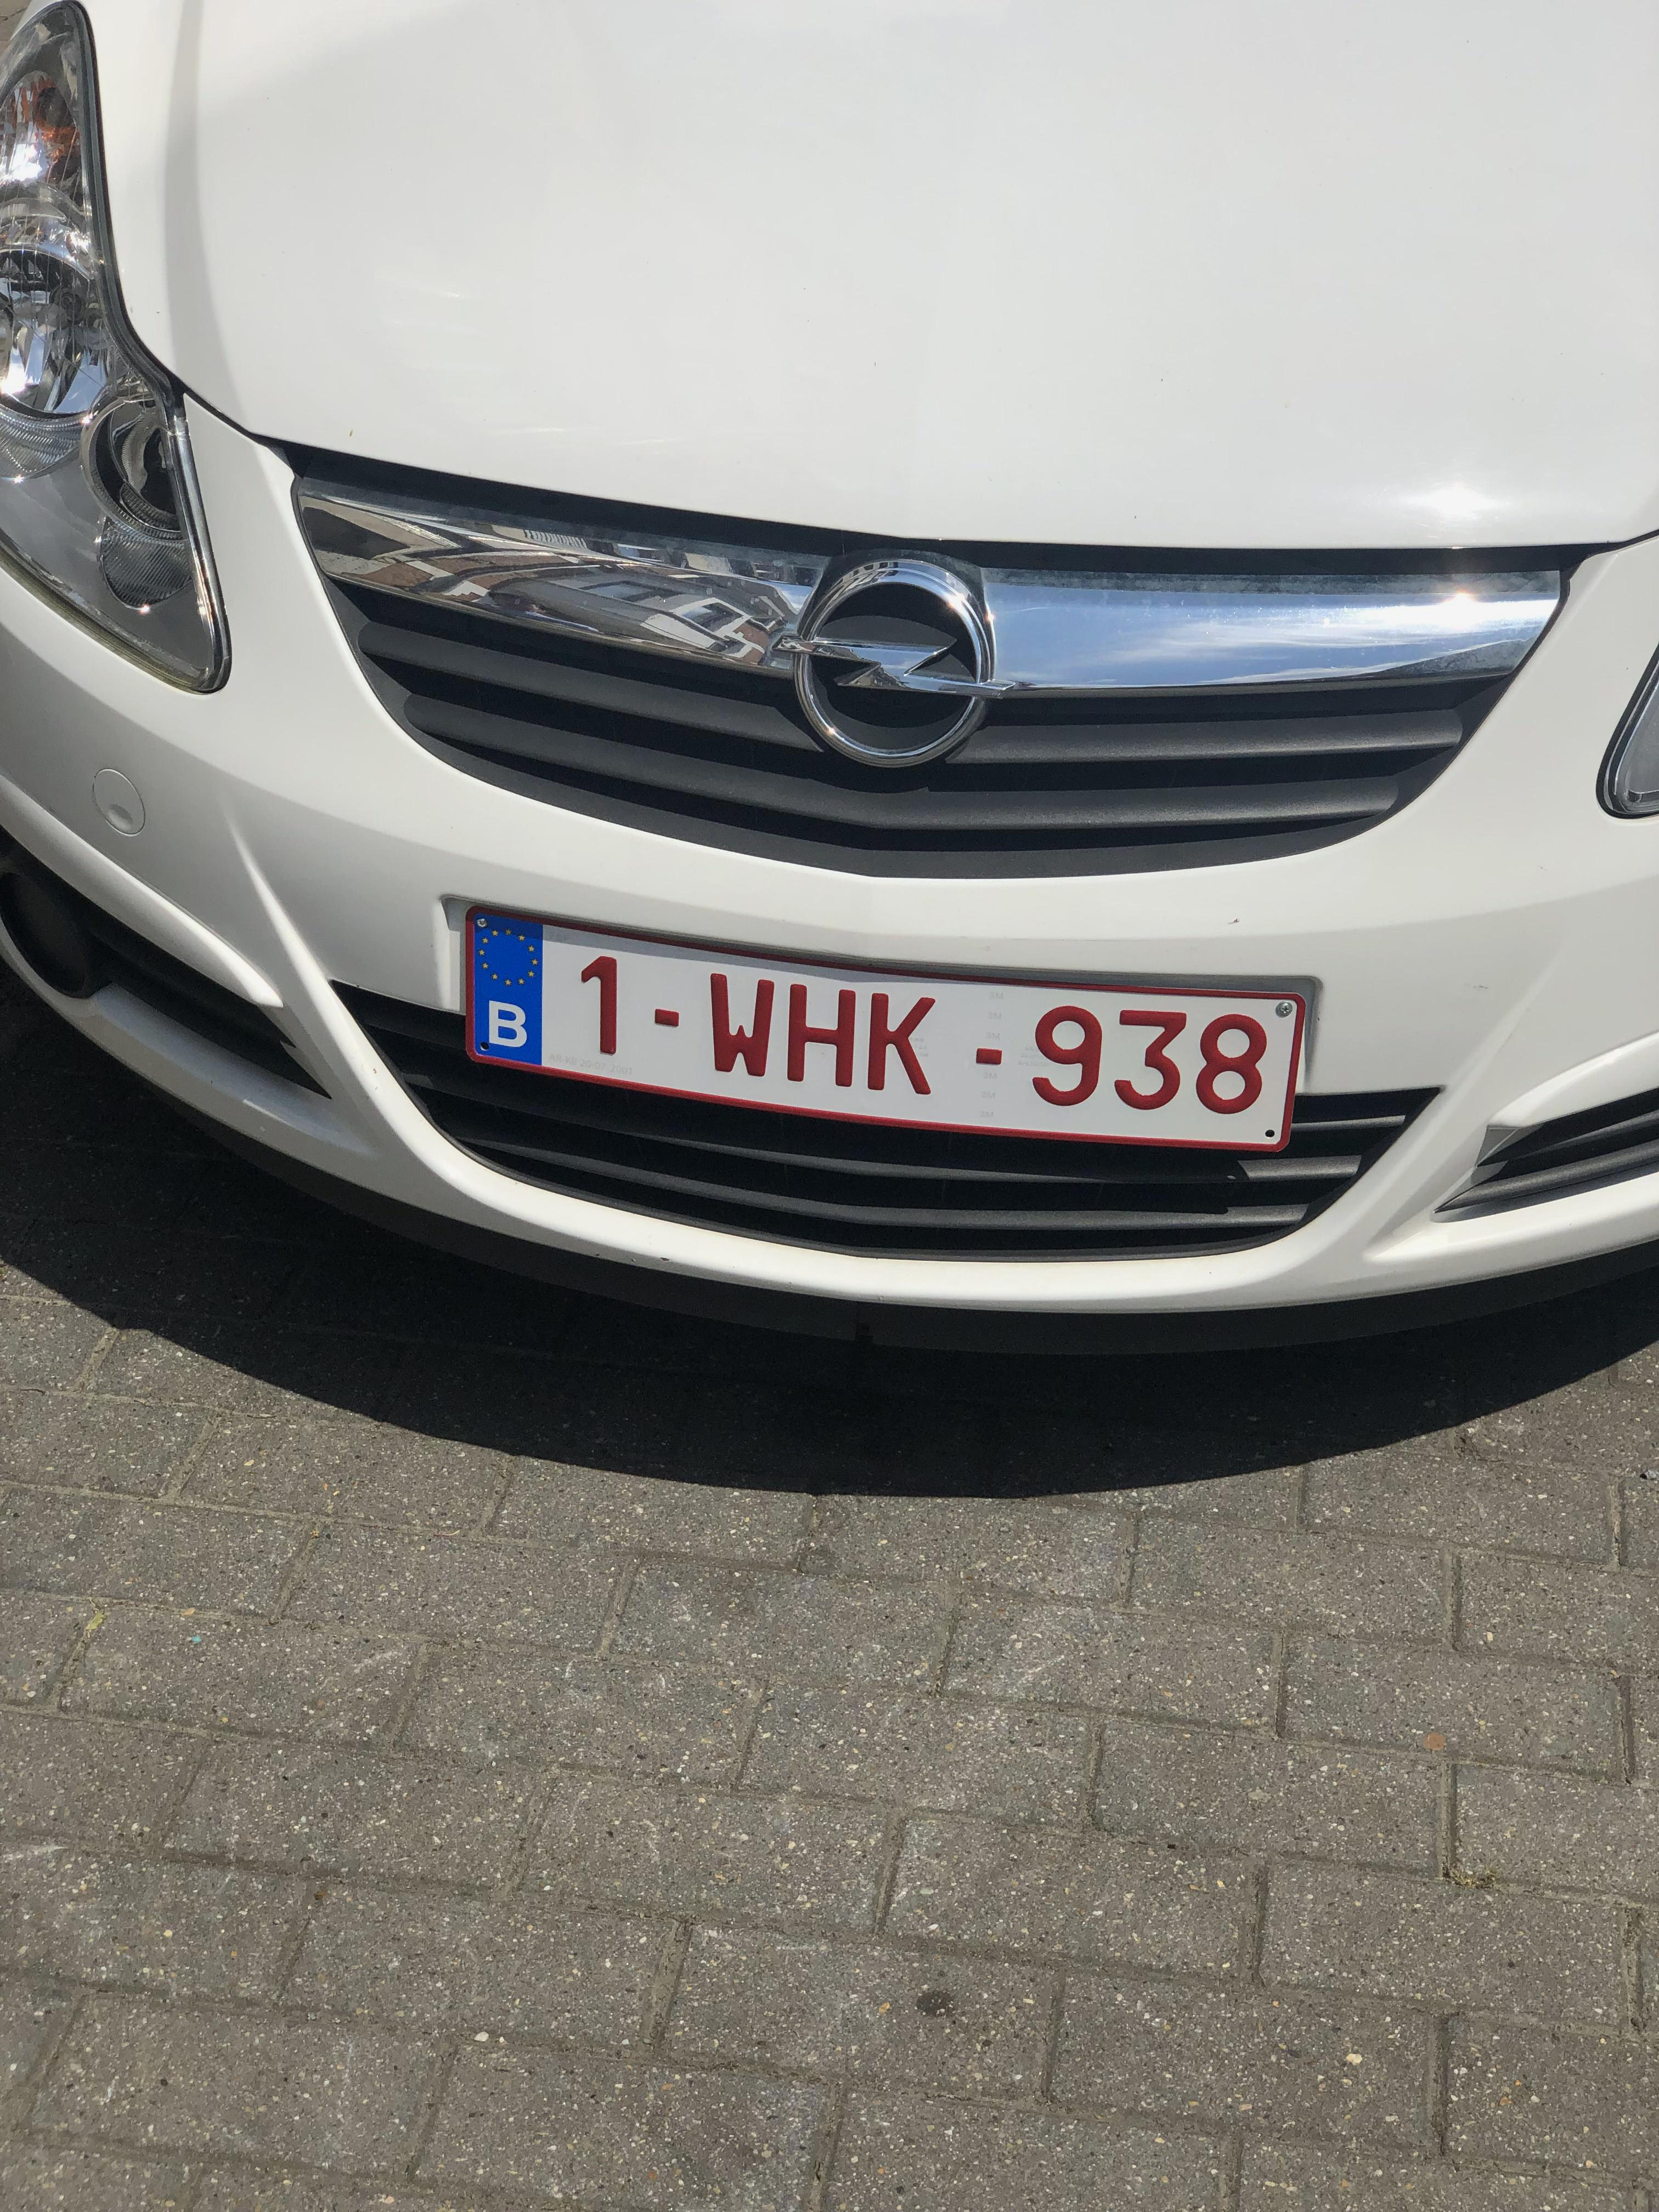plate: (435, 869, 1322, 1176)
